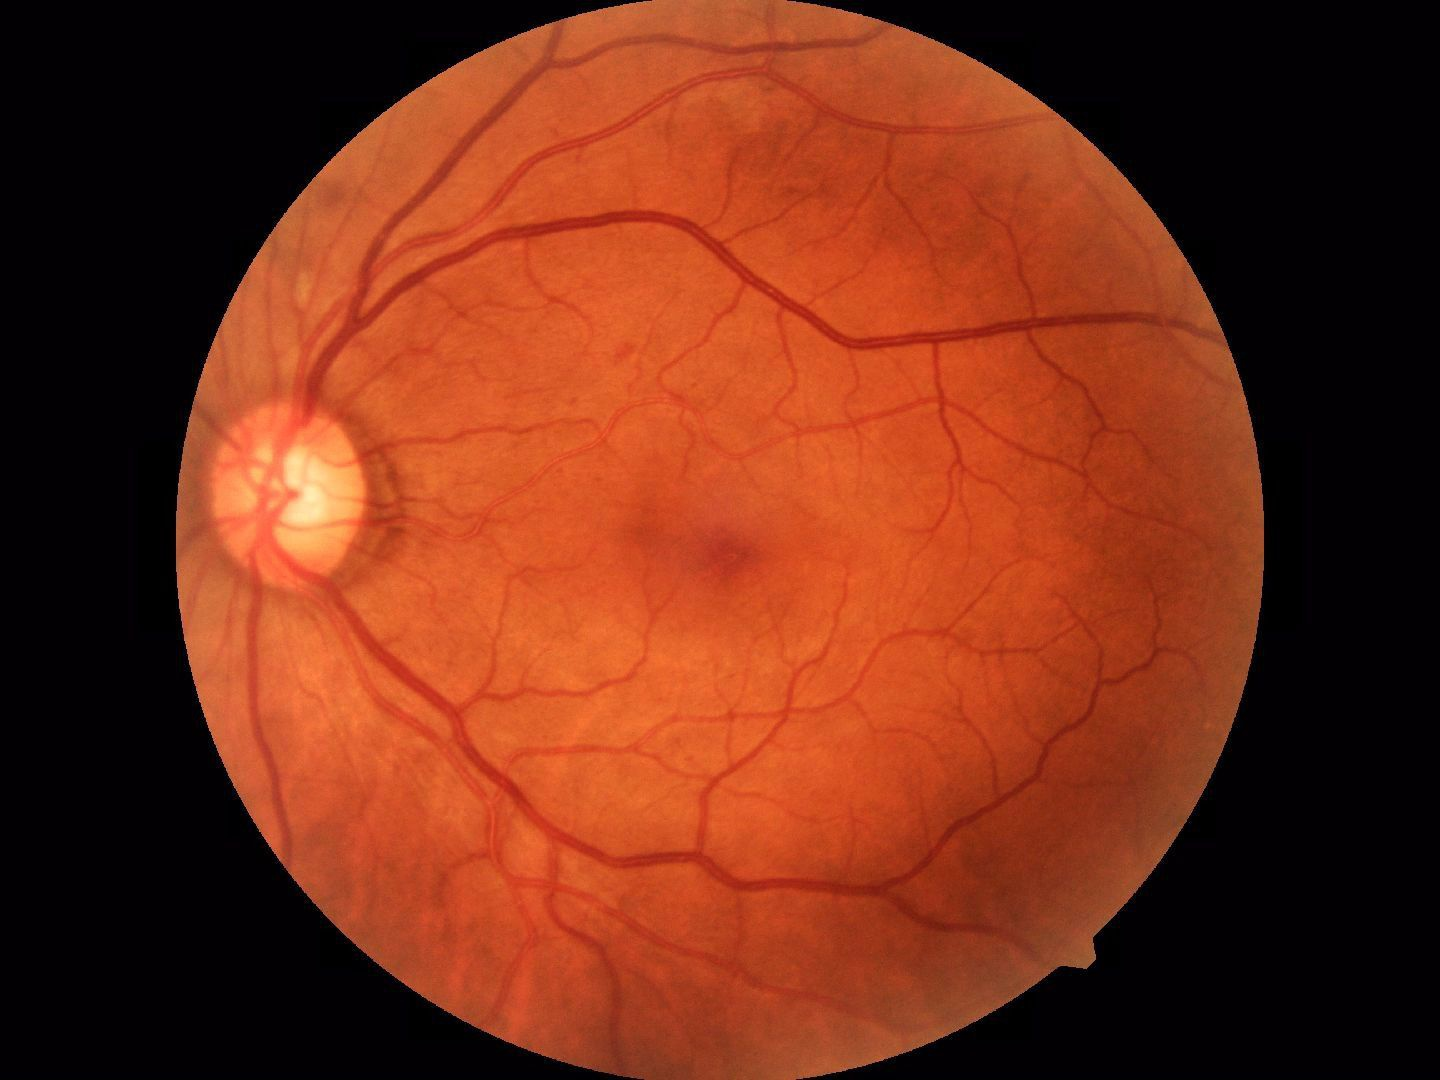Arterioles: (830, 385, 1169, 547), (890, 606, 1164, 803)
Optic-Disc: (196, 404, 390, 581)
Venules: (418, 669, 734, 921), (344, 180, 577, 334)
